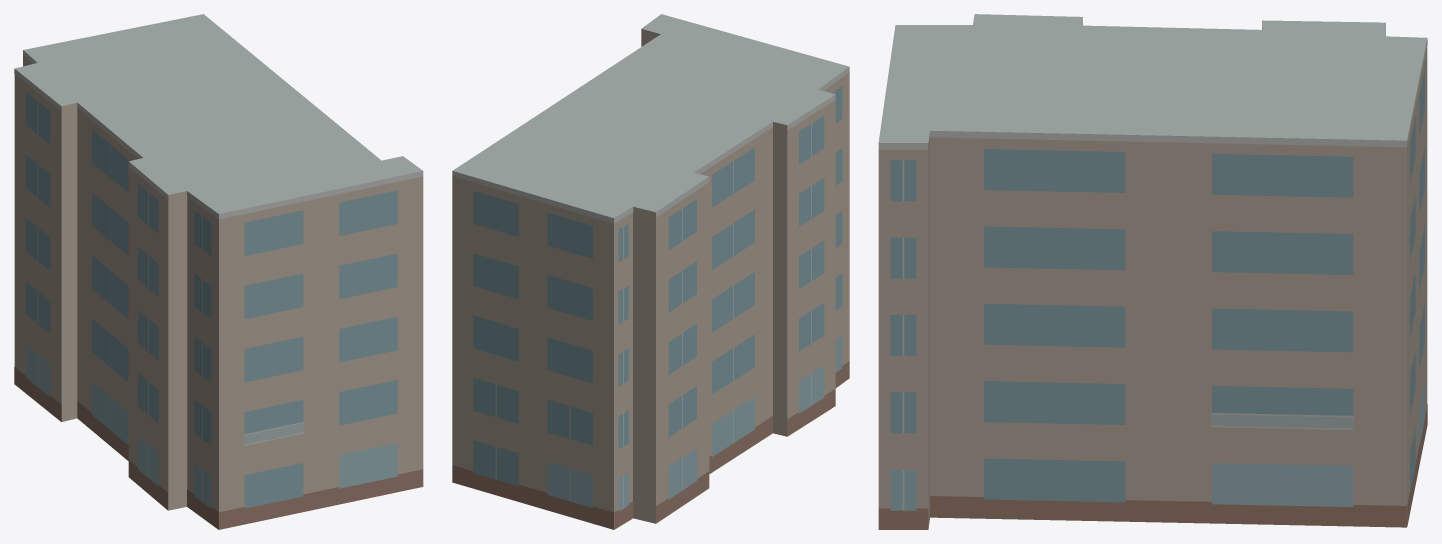
File: survey-upis-32760624.glb
3 renders of one model, left to right at view 1: azimuth 30°, elevation 25°; view 2: azimuth 150°, elevation 25°; view 3: azimuth 270°, elevation 25°, orthographic. The views are drawn at different scales.
Visible parts, largest first — view 1: survey-upis-32760624.tmp; view 2: survey-upis-32760624.tmp; view 3: survey-upis-32760624.tmp.
Boxes of the visible parts, box(x1,y1,x2,y2) form: survey-upis-32760624.tmp: box(14, 14, 423, 529); survey-upis-32760624.tmp: box(452, 14, 849, 529); survey-upis-32760624.tmp: box(878, 14, 1427, 529).
Size of the model in its own units: 10.14 by 14.15 by 18.21.
